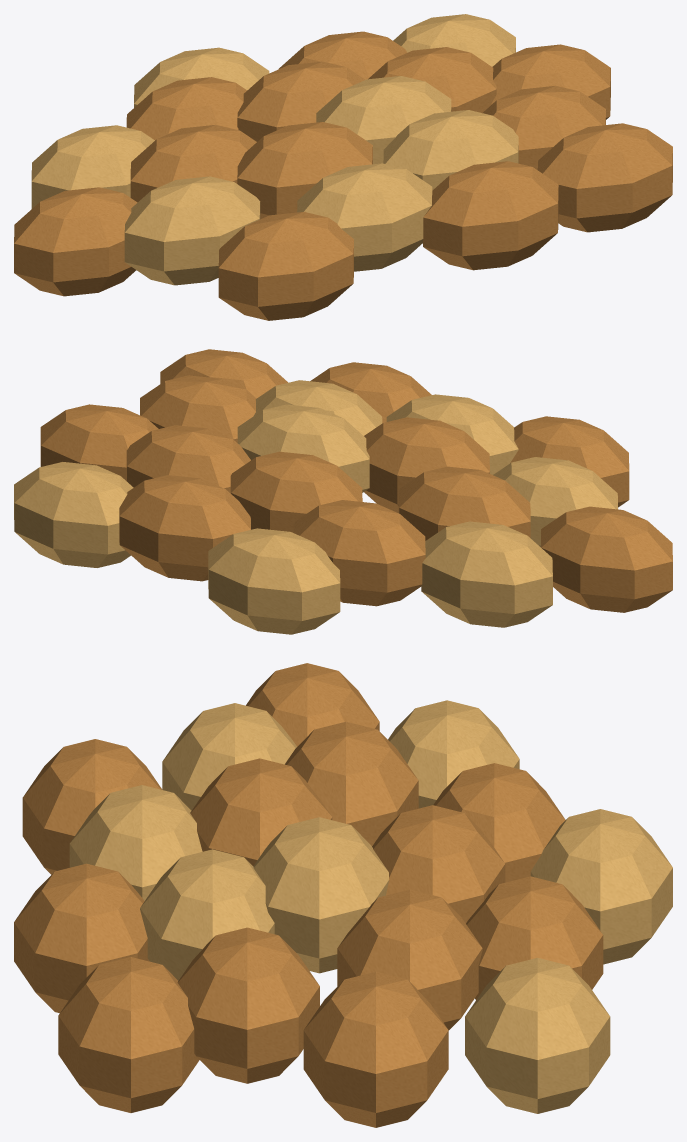
The model's file is oil_grain.obj.
3 renders of one model, top to bottom at view 1: azimuth 30°, elevation 25°; view 2: azimuth 150°, elevation 25°; view 3: azimuth 270°, elevation 25°, orthographic. The views are drawn at different scales.
Visible parts, largest first — view 1: oil_grain; view 2: oil_grain; view 3: oil_grain.
Boxes of the visible parts, x1,y1,x2,y2 form: oil_grain: (14,14,672,320); oil_grain: (14,349,672,634); oil_grain: (14,663,672,1127).
Bounding box in the file's own units: 5.47 × 1.09 × 3.78.
1 material, 1 textured.
